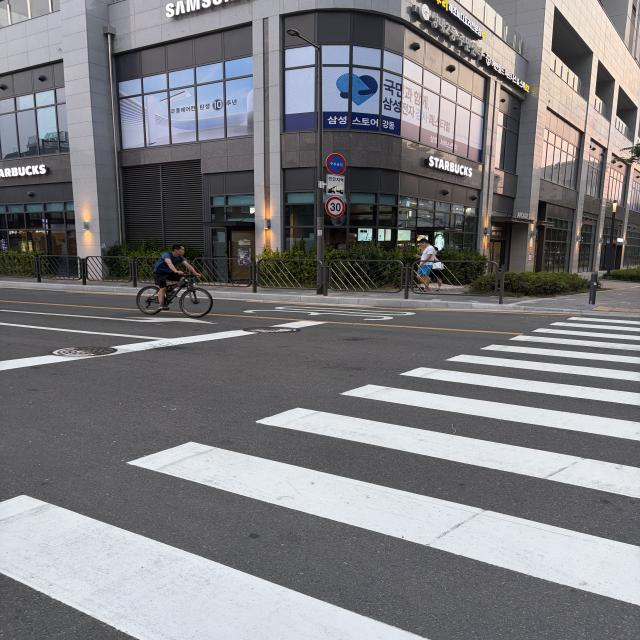bicycle: (122, 233, 232, 326)
